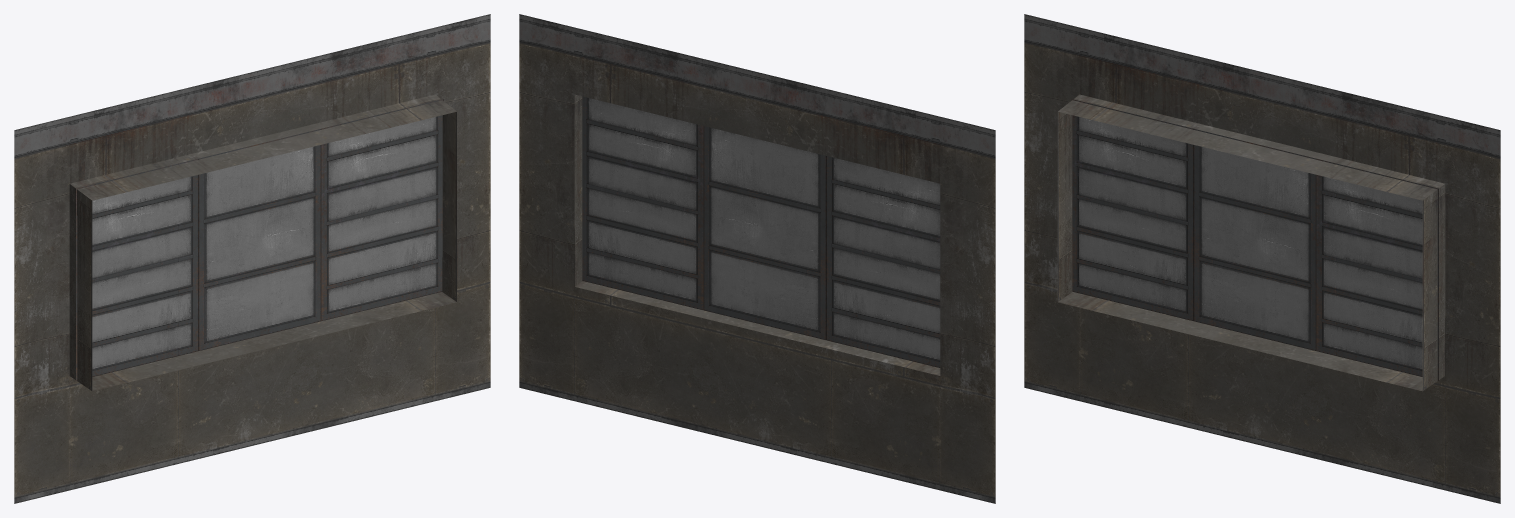
Rendered from ARC0910283.fbx.
3 renders of one model, left to right at view 1: azimuth 30°, elevation 25°; view 2: azimuth 150°, elevation 25°; view 3: azimuth 330°, elevation 25°, orthographic.
Parts seen in each view (by area): view 1: smARC0910283; view 2: smARC0910283; view 3: smARC0910283.
Part boxes in pixels (box(x1,y1,x2,y2)): smARC0910283: box(14, 14, 490, 503); smARC0910283: box(519, 14, 995, 503); smARC0910283: box(1024, 14, 1500, 503).
Bounding box in the file's own units: 400 × 300 × 32.39.
Materials: 1 (1 with a texture image).
